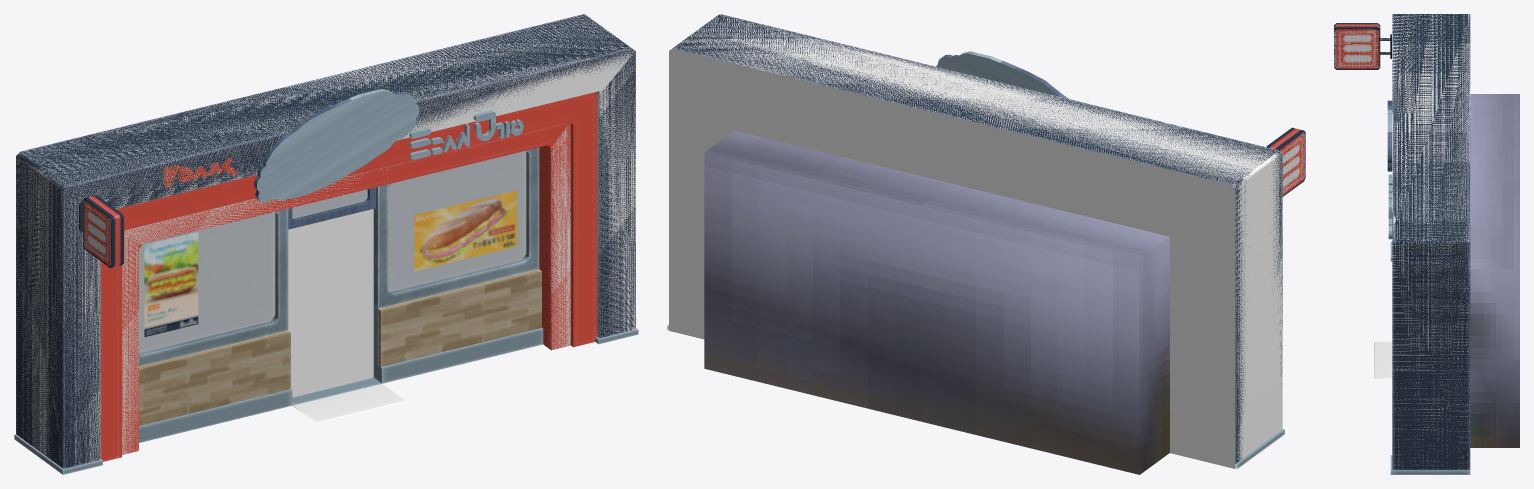
The model's file is objects_un_sandwichshop01.gltf.
3 renders of one model, left to right at view 1: azimuth 30°, elevation 25°; view 2: azimuth 150°, elevation 25°; view 3: azimuth 270°, elevation 25°, orthographic. The views are drawn at different scales.
Parts seen in each view (by area): view 1: nomerge_objects_un_sandwichshop01_mesh2_shape:objects_un_san (×2), um_objects_un_sandwichshop01_model_lod0Shape:objects_un_sand, um_objects_un_sandwichshop01_model_lod0Shape:objects_un_shop; view 2: nomerge_objects_un_sandwichshop01_mesh2_shape:objects_un_san (×2), um_objects_un_sandwichshop01_model_lod0Shape:objects_un_sand; view 3: nomerge_objects_un_sandwichshop01_mesh2_shape:objects_un_san (×2), um_objects_un_sandwichshop01_model_lod0Shape:objects_un_sand, um_objects_un_sandwichshop01_model_lod0Shape:objects_un_shop.
Boxes of the visible parts, x1,y1,x2,y2 form: nomerge_objects_un_sandwichshop01_mesh2_shape:objects_un_san (×2): (14,14,638,474); um_objects_un_sandwichshop01_model_lod0Shape:objects_un_sand: (16,14,635,468); um_objects_un_sandwichshop01_model_lod0Shape:objects_un_shop: (293,384,405,422); nomerge_objects_un_sandwichshop01_mesh2_shape:objects_un_san (×2): (667,14,1305,474); um_objects_un_sandwichshop01_model_lod0Shape:objects_un_sand: (669,14,1305,468); nomerge_objects_un_sandwichshop01_mesh2_shape:objects_un_san (×2): (1334,14,1519,474); um_objects_un_sandwichshop01_model_lod0Shape:objects_un_sand: (1334,14,1470,469); um_objects_un_sandwichshop01_model_lod0Shape:objects_un_shop: (1374,342,1392,378).
Size of what is drawn, in the model's own units: 7.04 by 3.6 by 2.41.
5 materials, 3 textured.
